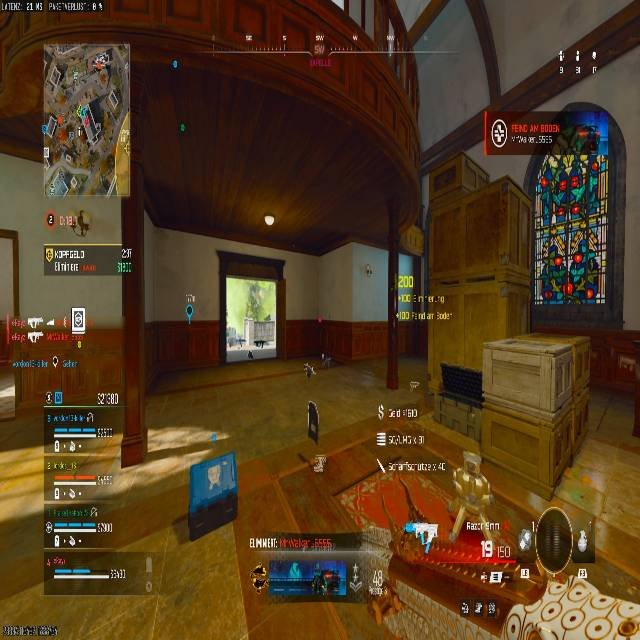head: (524, 507, 575, 572)
